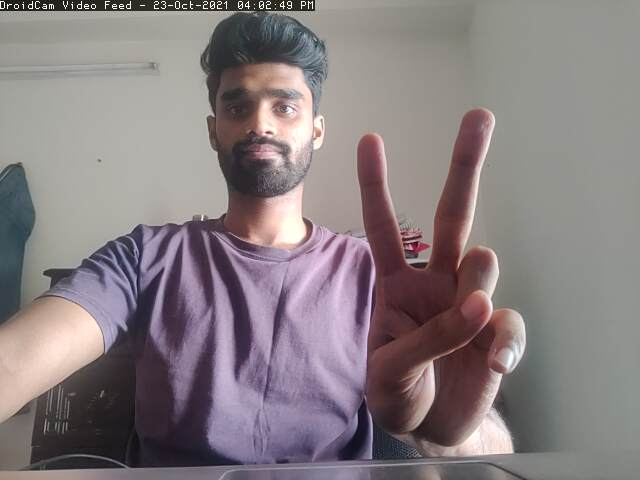Victory: (349, 98, 530, 443)
